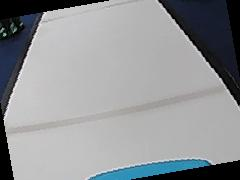corn: (0, 13, 23, 39)
